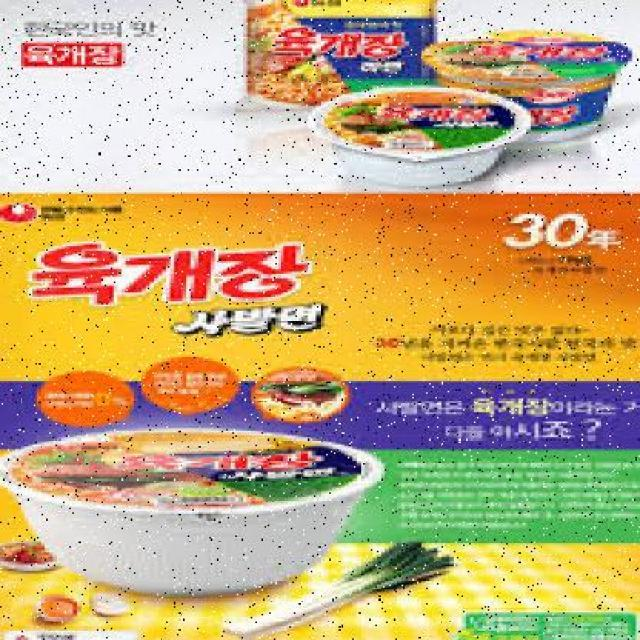Miscellaneous: (3, 432, 369, 594), (409, 21, 640, 150), (313, 83, 536, 189)
